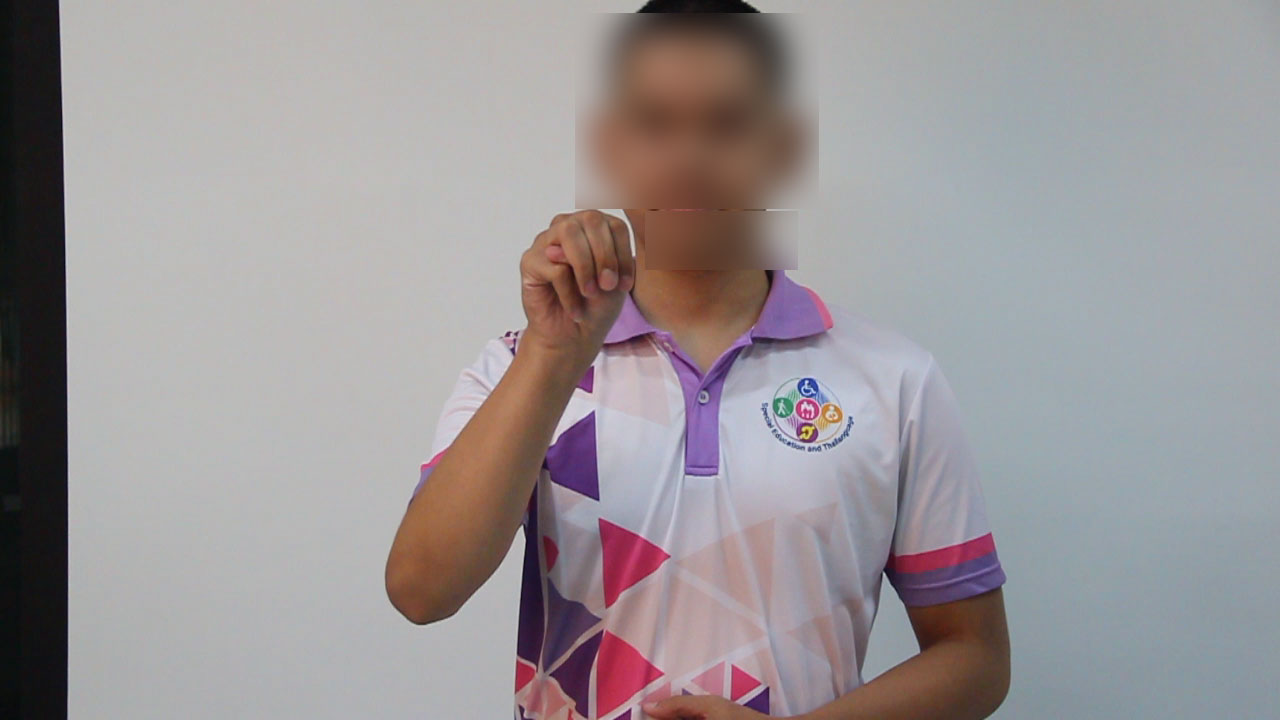mor: (509, 205, 642, 371)
